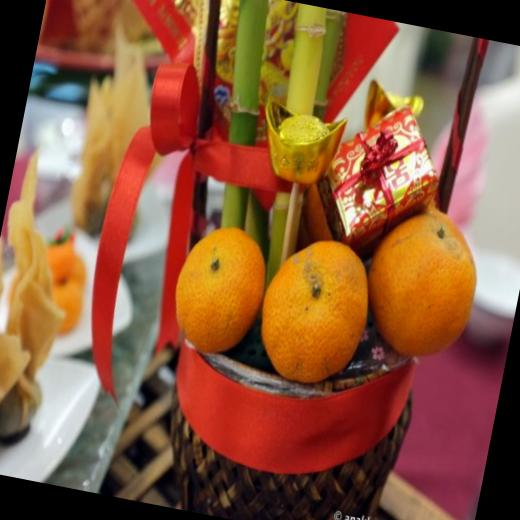Grape: (252, 226, 378, 390), (362, 194, 491, 344), (165, 215, 267, 351), (30, 239, 90, 334)
